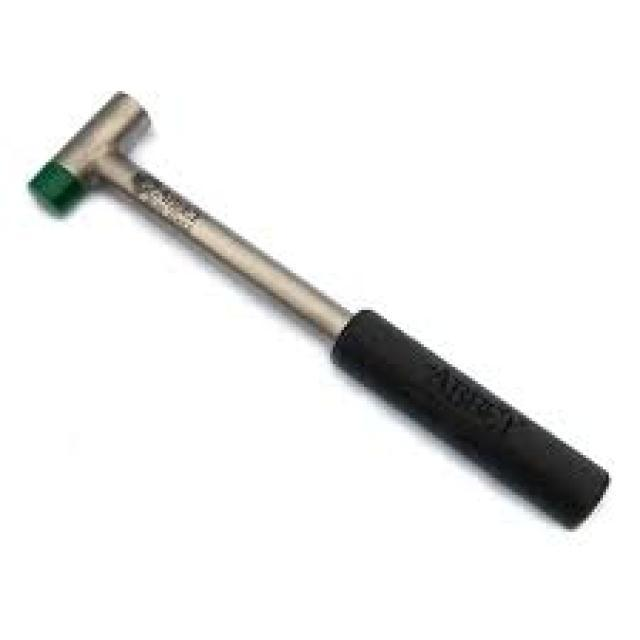Palu: (19, 80, 615, 542)
